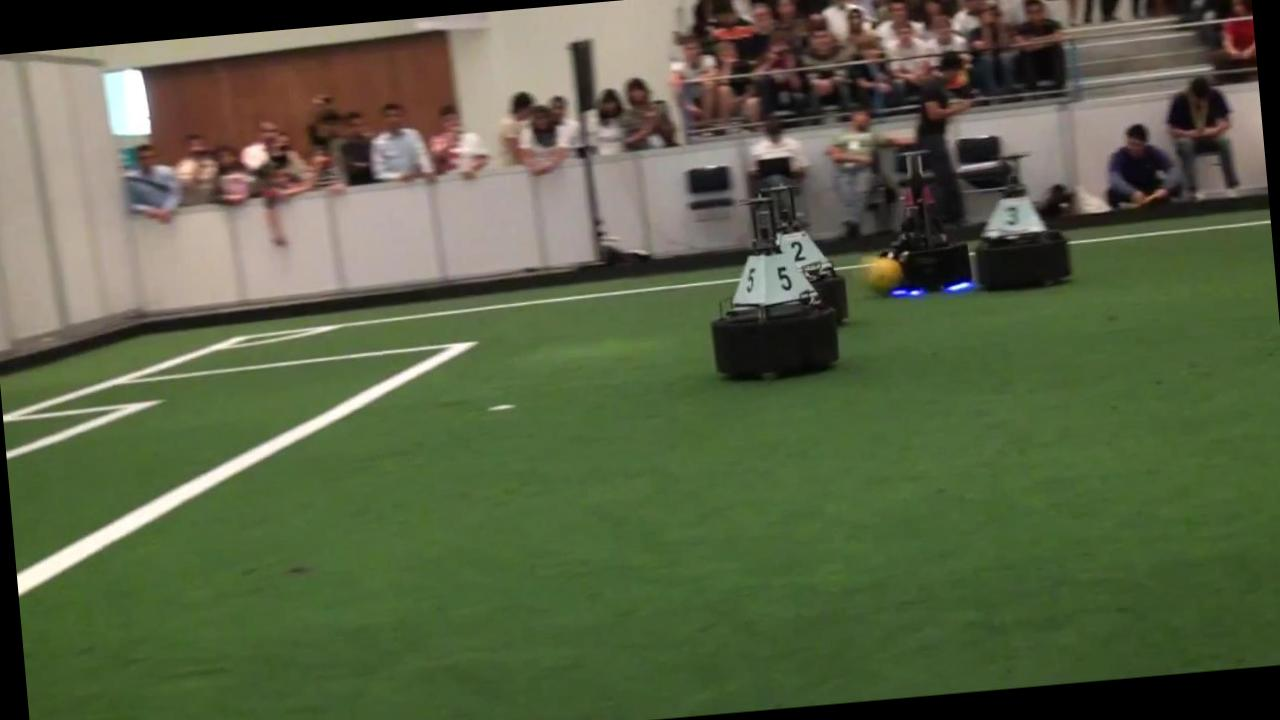ball: (865, 255, 904, 292)
robot: (710, 196, 838, 379), (761, 184, 849, 323), (974, 164, 1069, 292), (887, 150, 971, 290)
